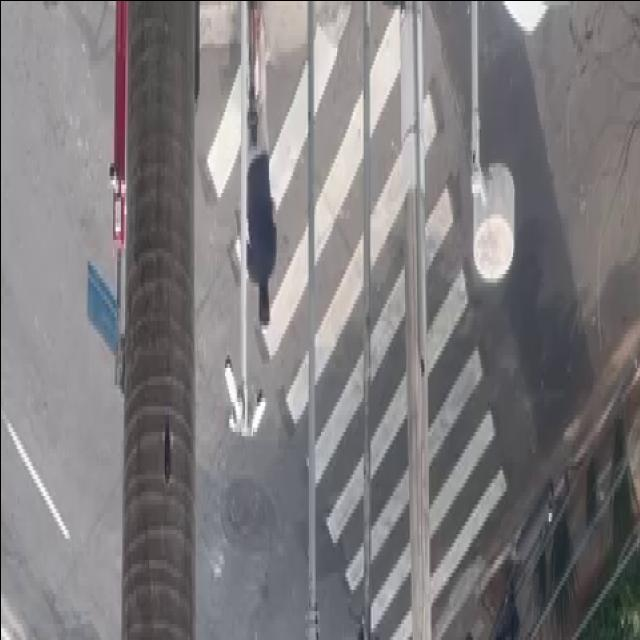bicycle: (236, 0, 283, 350)
